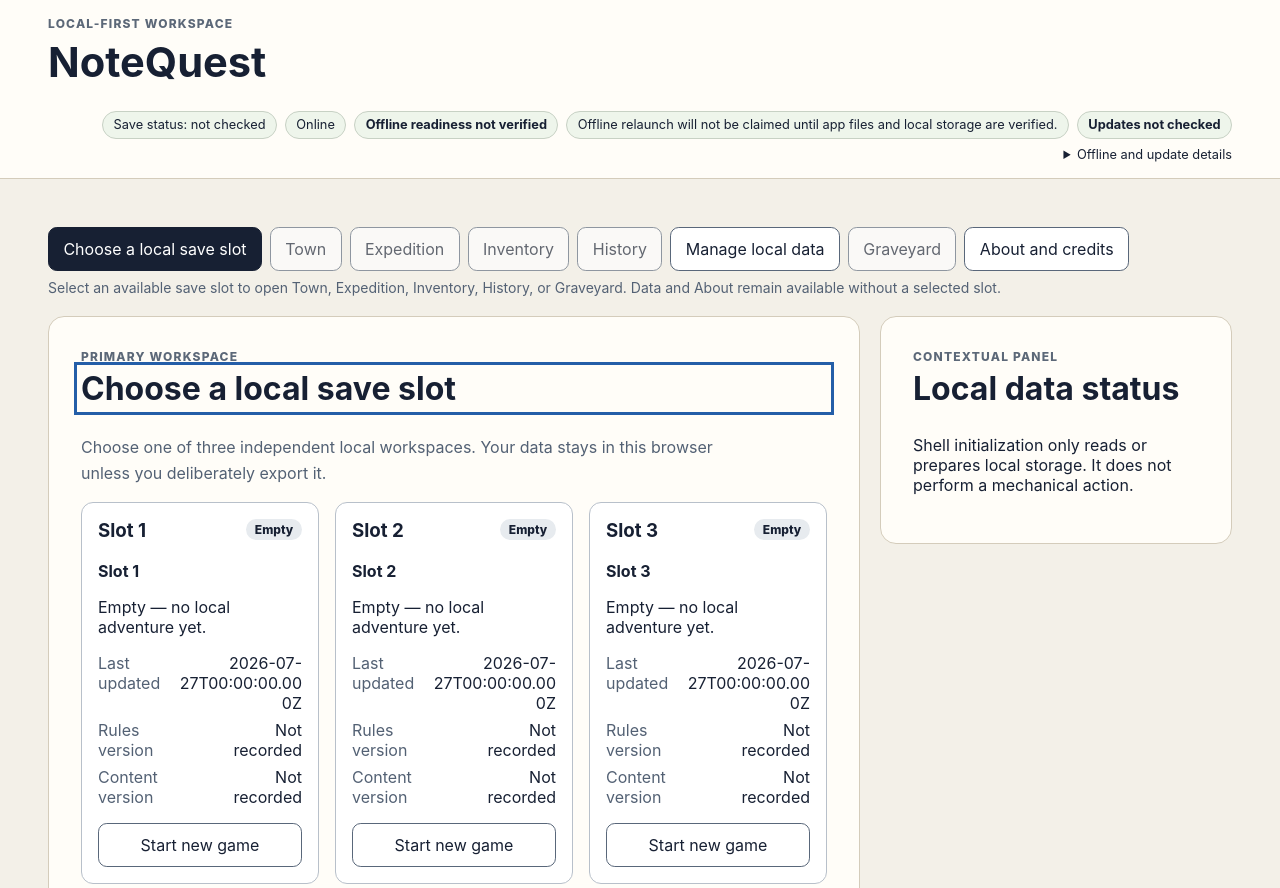
Test: App shell › exits loading and offers retry when selection rejects
This screenshot has width=1280, height=888.
Click the 1st button "Start new game".
click(200, 845)  # box 98,823 -> 302,867
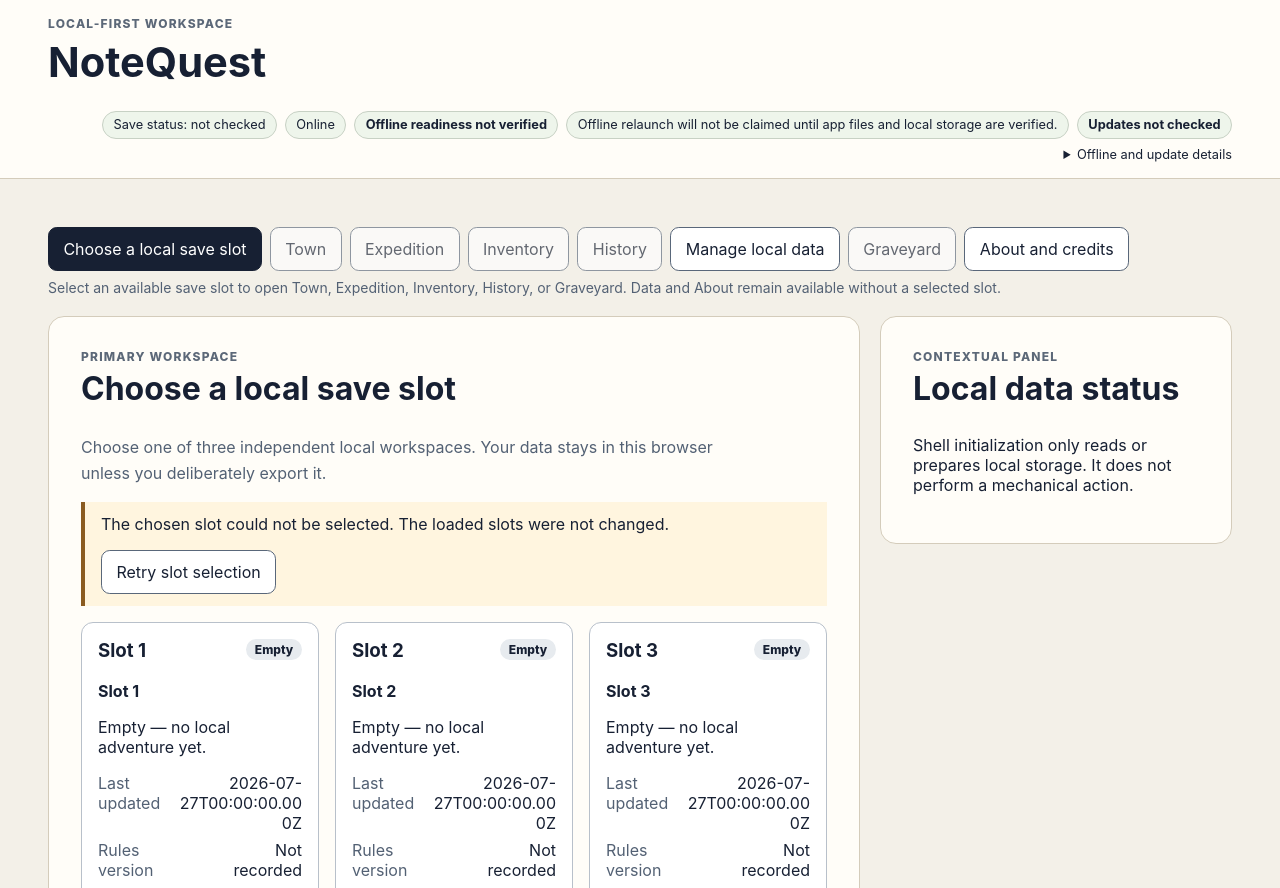
Expected: the heading "Slot 3" is shown, 606,639 -> 658,662
Expected: the message shows "The chosen slot could not be selected", 101,514 -> 669,534
Expected: the button "Retry slot selection" is enabled, 101,550 -> 276,594
